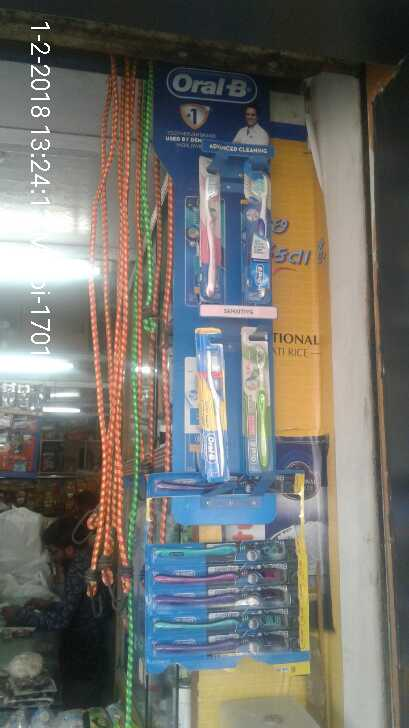oralb: (189, 336, 231, 483), (239, 166, 275, 297), (194, 167, 226, 299), (153, 578, 284, 607), (144, 607, 282, 633), (248, 343, 274, 475), (152, 633, 297, 656), (147, 538, 283, 561), (147, 569, 284, 587)
